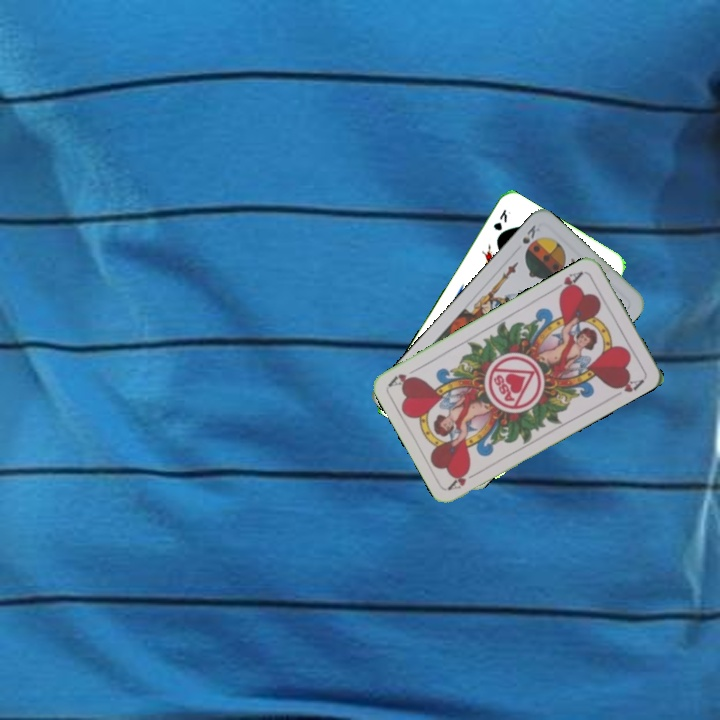GK: (489, 205, 513, 233)
HA: (445, 466, 483, 493), (555, 267, 586, 297)
SK: (518, 221, 543, 246)
